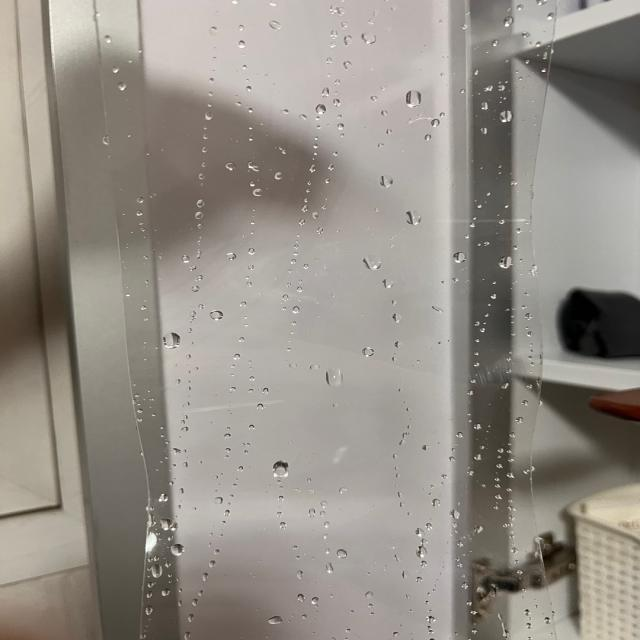raindrop: (401, 210, 435, 228), (495, 253, 521, 274), (267, 458, 293, 479), (378, 174, 406, 192), (446, 507, 474, 523), (326, 368, 350, 386), (448, 250, 475, 266), (285, 567, 311, 583), (245, 180, 268, 198), (362, 30, 382, 50), (401, 88, 423, 105), (483, 288, 506, 304), (158, 518, 184, 532), (164, 331, 182, 351), (333, 546, 357, 561), (498, 111, 520, 126), (267, 20, 286, 36), (265, 617, 290, 629), (203, 555, 223, 570), (367, 254, 385, 270), (312, 105, 335, 117), (360, 344, 377, 360), (344, 33, 359, 51), (296, 111, 315, 125), (341, 59, 361, 72), (150, 563, 166, 579), (326, 158, 342, 174), (417, 128, 433, 144), (306, 162, 324, 176), (412, 545, 430, 559), (429, 304, 447, 318), (425, 114, 444, 127), (322, 561, 341, 574), (294, 590, 310, 605), (197, 144, 214, 158), (195, 570, 211, 584), (290, 215, 307, 228), (210, 312, 230, 323), (169, 542, 184, 556), (132, 207, 148, 220), (160, 490, 173, 506), (476, 125, 492, 138), (196, 195, 208, 212), (327, 28, 344, 40), (194, 168, 208, 182), (477, 102, 493, 114), (470, 420, 486, 432), (363, 94, 382, 104), (192, 208, 206, 221), (211, 494, 224, 508), (250, 160, 265, 172), (387, 296, 402, 308), (364, 588, 379, 600), (443, 452, 458, 464), (427, 613, 442, 625), (307, 595, 323, 606), (381, 277, 398, 287), (201, 108, 215, 120), (410, 527, 424, 539), (338, 488, 352, 500), (206, 26, 222, 36), (178, 425, 194, 435), (222, 161, 236, 172), (252, 403, 266, 414), (129, 194, 146, 203), (276, 291, 293, 300), (278, 522, 295, 531), (410, 575, 427, 584), (182, 250, 192, 265), (273, 170, 285, 182), (293, 286, 311, 294), (420, 442, 432, 454), (245, 104, 258, 115), (290, 305, 304, 315), (110, 65, 125, 74), (205, 77, 220, 86), (379, 109, 394, 118), (114, 79, 126, 90), (505, 471, 517, 482), (137, 219, 150, 229), (246, 247, 260, 256), (458, 582, 472, 591), (200, 130, 215, 138), (186, 283, 201, 291), (194, 274, 206, 284), (189, 364, 201, 374), (389, 338, 404, 346), (392, 310, 402, 322), (473, 525, 485, 535), (187, 262, 200, 271), (295, 202, 308, 211), (232, 23, 246, 31), (246, 84, 260, 92), (172, 447, 183, 457), (238, 37, 247, 49), (225, 252, 238, 260), (238, 300, 249, 309), (309, 211, 323, 218), (190, 310, 203, 317), (193, 251, 203, 260), (172, 377, 182, 386), (246, 135, 256, 144), (160, 592, 171, 598), (145, 605, 153, 613), (197, 223, 204, 231), (494, 502, 500, 511)
